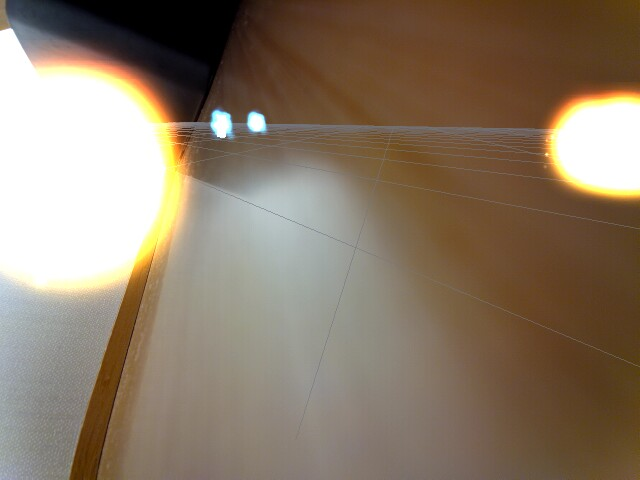fire: (0, 63, 180, 299), (549, 91, 640, 196)
